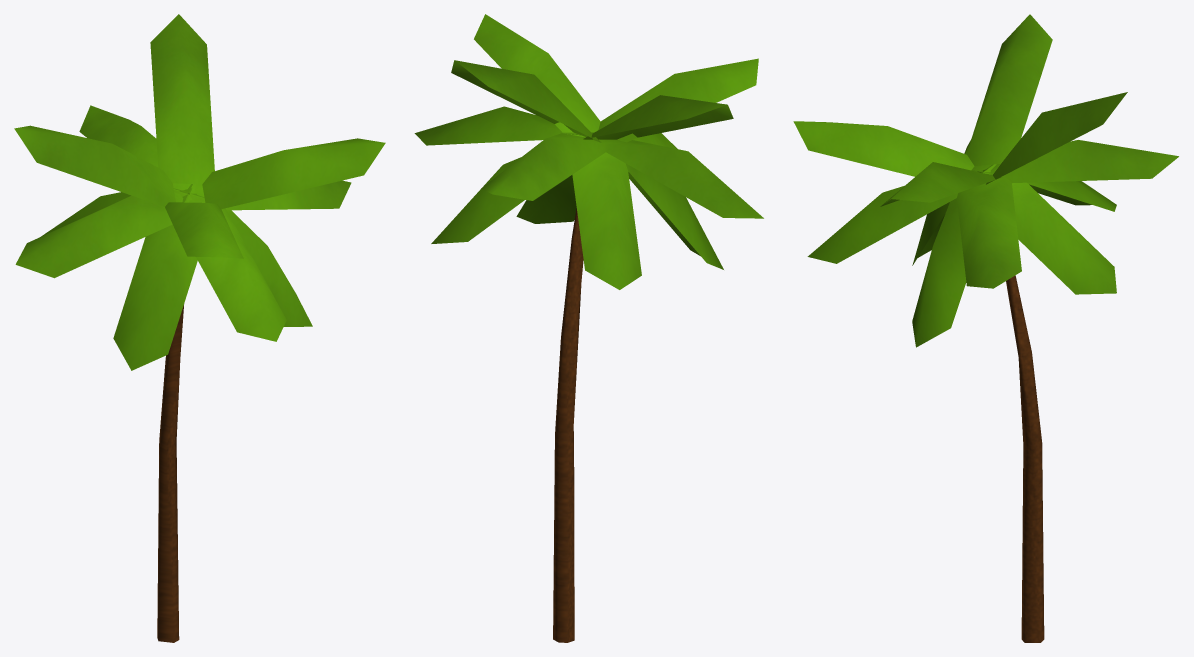
The model's file is Tree3d Palmera b.FBX.
The picture shows the model from 3 angles, left to right: view 1: azimuth 30°, elevation 25°; view 2: azimuth 150°, elevation 25°; view 3: azimuth 270°, elevation 25°; orthographic projection. The views are drawn at different scales.
Visible parts, largest first — view 1: CopaPalmera b, Tronco Palmera b; view 2: CopaPalmera b, Tronco Palmera b; view 3: CopaPalmera b, Tronco Palmera b.
Part boxes in pixels (box(x1,y1,x2,y2)): CopaPalmera b: box(14, 14, 385, 370); Tronco Palmera b: box(157, 305, 183, 642); CopaPalmera b: box(414, 14, 763, 289); Tronco Palmera b: box(553, 208, 583, 642); CopaPalmera b: box(793, 14, 1178, 347); Tronco Palmera b: box(1006, 275, 1044, 642).
Bounding box in the file's own units: 274 × 448 × 273.
